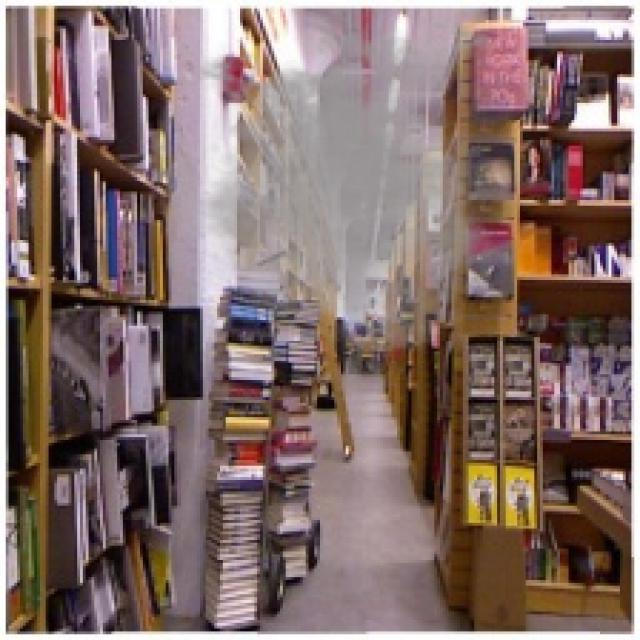smoke: (134, 9, 552, 357)
